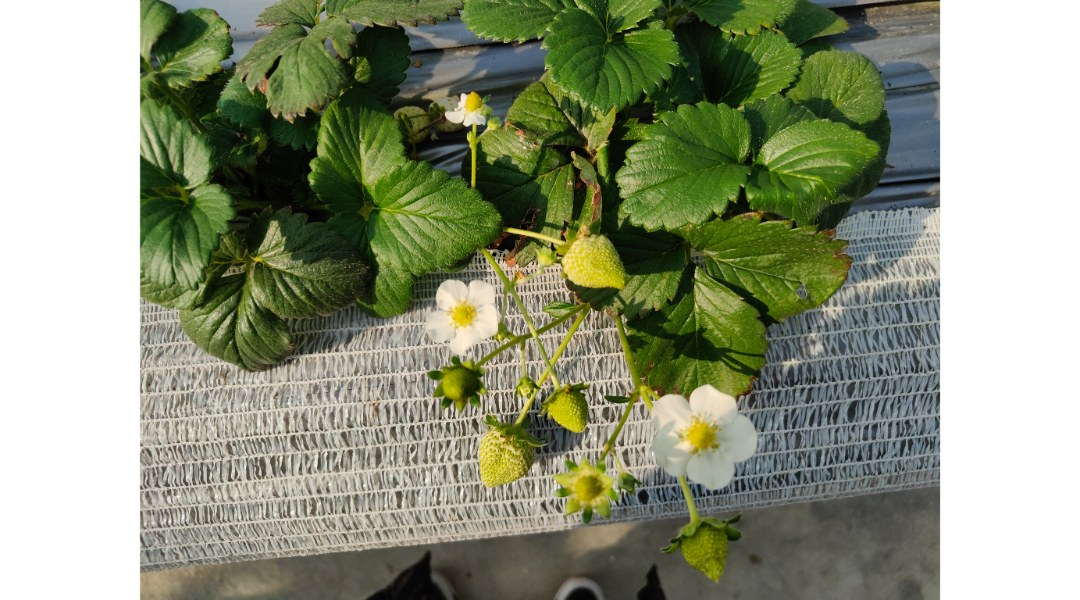berry: (466, 409, 533, 503), (552, 215, 632, 293), (668, 521, 747, 587), (553, 454, 624, 522), (416, 356, 489, 421), (539, 381, 598, 449)
flower: (638, 383, 772, 508), (419, 271, 507, 360)
strain: (486, 247, 562, 392), (474, 309, 572, 370), (536, 306, 590, 390), (597, 397, 637, 466), (609, 304, 645, 378), (674, 475, 707, 533)
